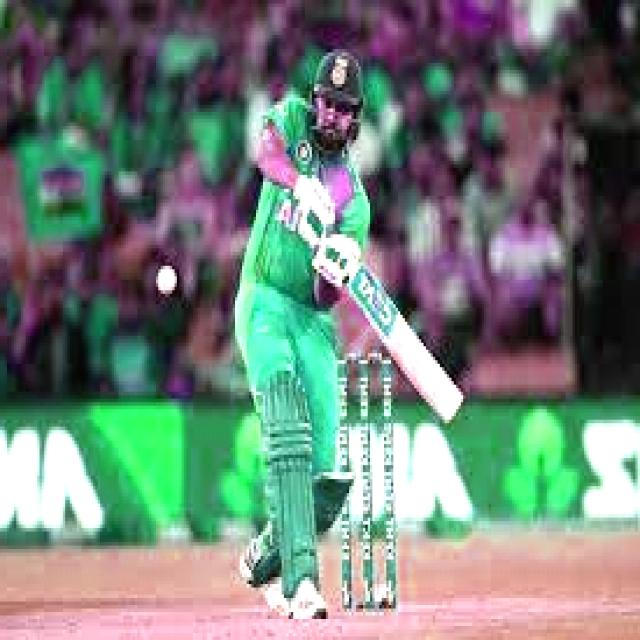toe: (441, 391, 465, 428)
